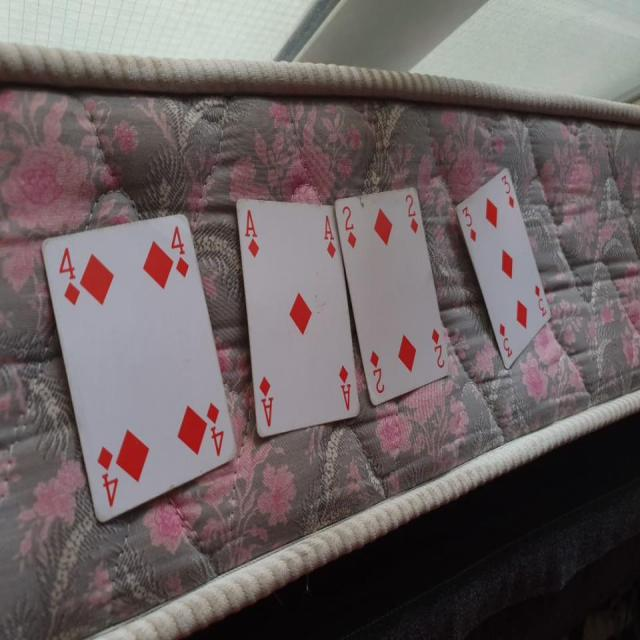2 Diamonds: (329, 188, 452, 409)
3 Diamonds: (452, 162, 553, 373)
4 Diamonds: (38, 214, 239, 528)
A Diamonds: (227, 194, 363, 445)
